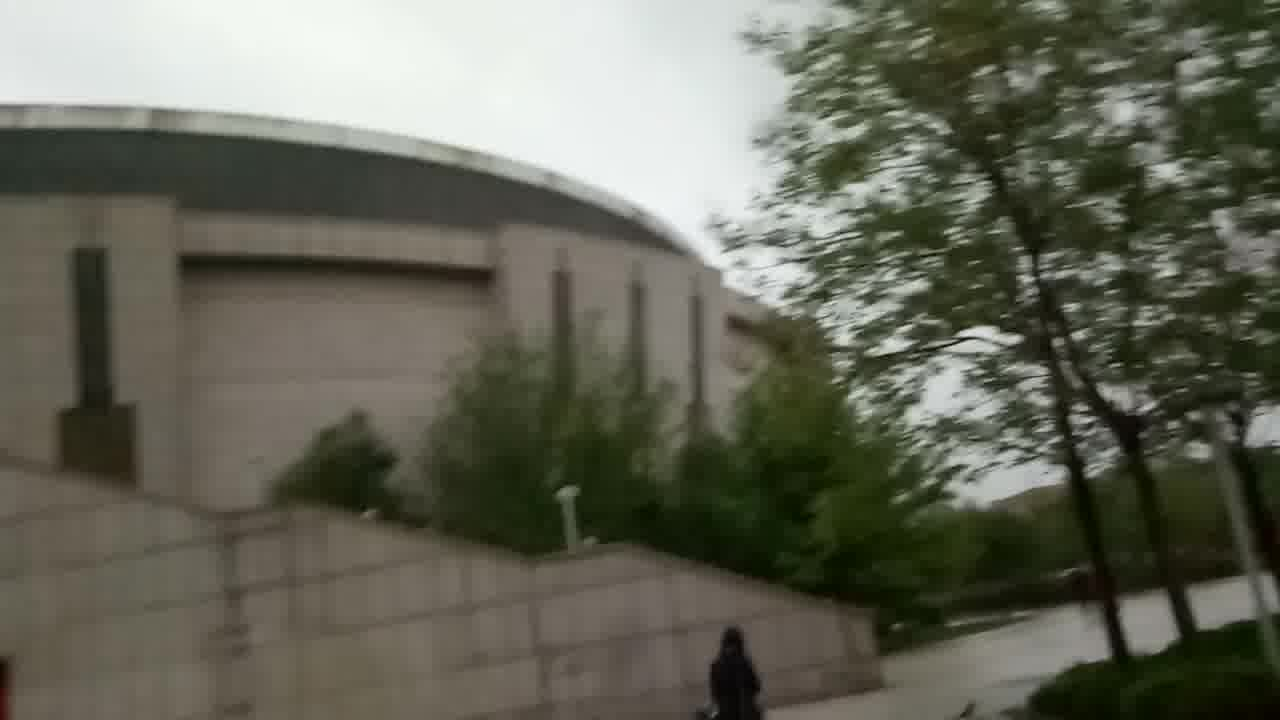zhongtiww: (6, 99, 902, 720)
